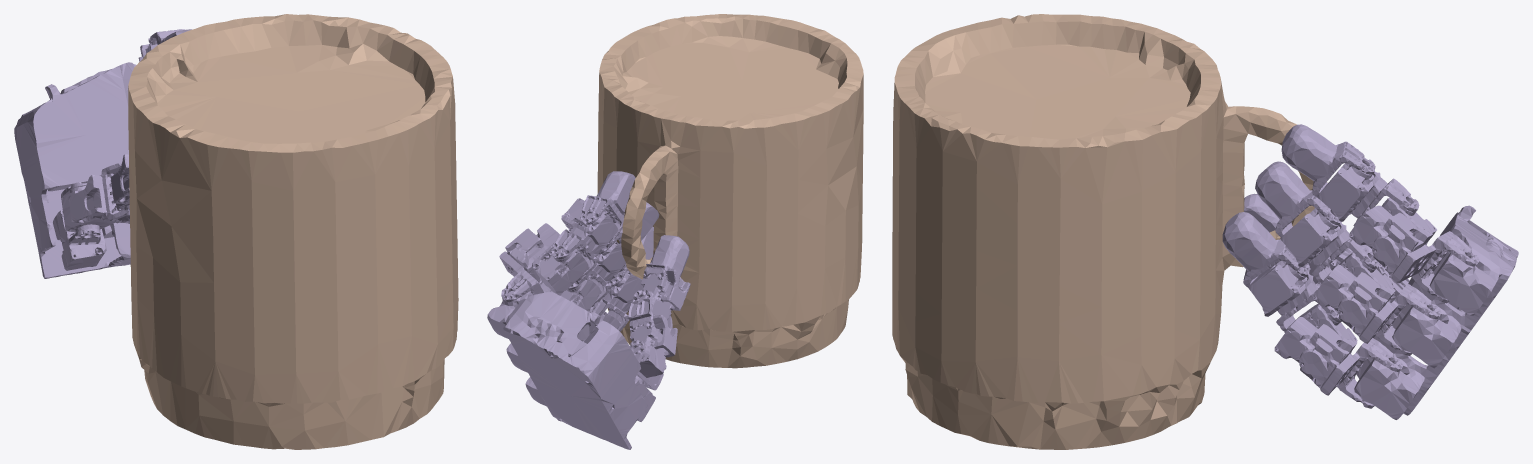
File: case-09.glb
3 renders of one model, left to right at view 1: azimuth 30°, elevation 25°; view 2: azimuth 150°, elevation 25°; view 3: azimuth 270°, elevation 25°, orthographic. The views are drawn at different scales.
Visible parts, largest first — view 1: simplified.obj, world; view 2: simplified.obj, world; view 3: simplified.obj, world.
Part boxes in pixels (<box>): simplified.obj: <box>128,14,458,449</box>; world: <box>14,29,191,278</box>; simplified.obj: <box>597,14,863,368</box>; world: <box>487,171,690,449</box>; simplified.obj: <box>892,14,1327,449</box>; world: <box>1222,124,1518,419</box>.
Bounding box in the file's own units: 0.2095 × 0.2252 × 0.3954.
